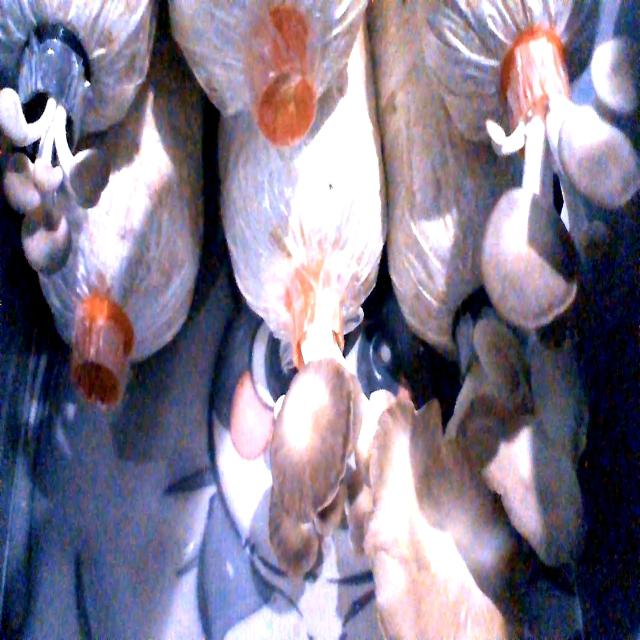big: (370, 322, 603, 640), (450, 18, 640, 325), (254, 356, 378, 577)
nfound: (248, 40, 338, 179), (65, 346, 138, 444)
small: (0, 96, 105, 266)
